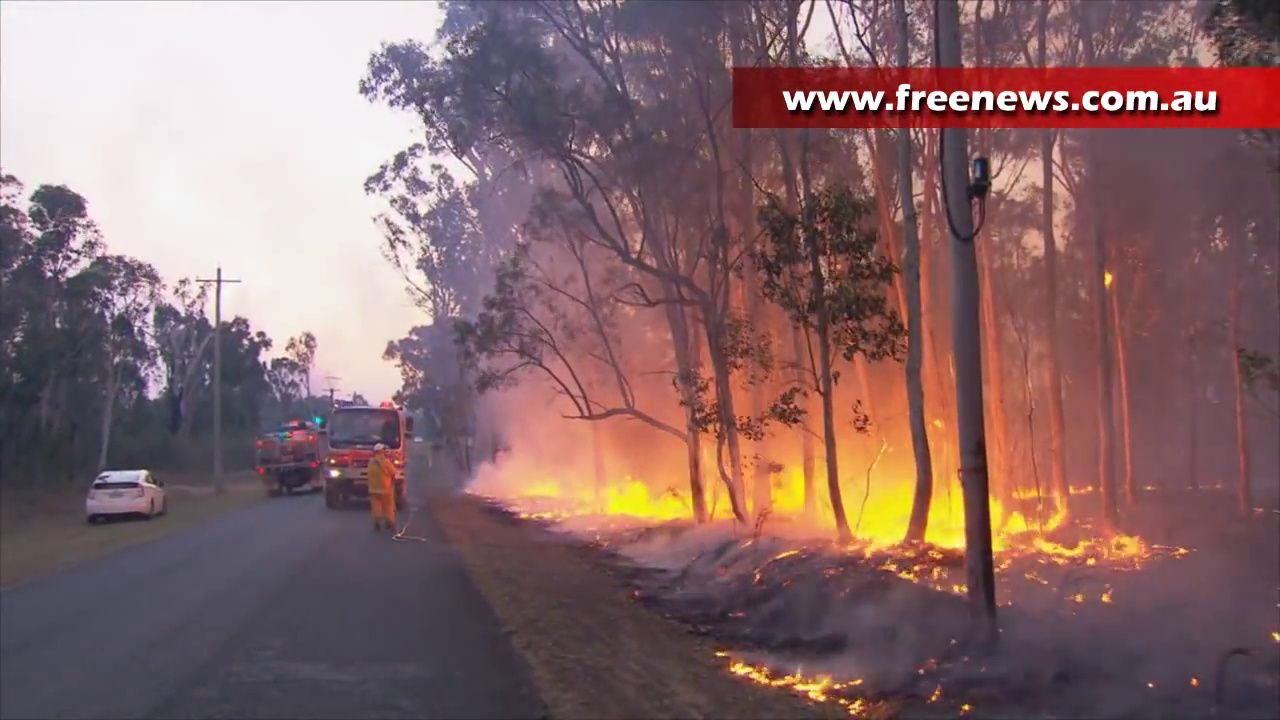fire: (992, 497, 1145, 566), (731, 661, 855, 707), (844, 475, 915, 536), (606, 473, 692, 520), (931, 485, 963, 543)
